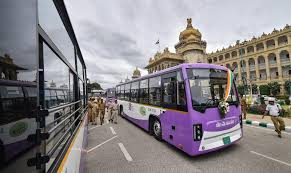bus: (1, 1, 88, 173), (113, 62, 243, 156)
